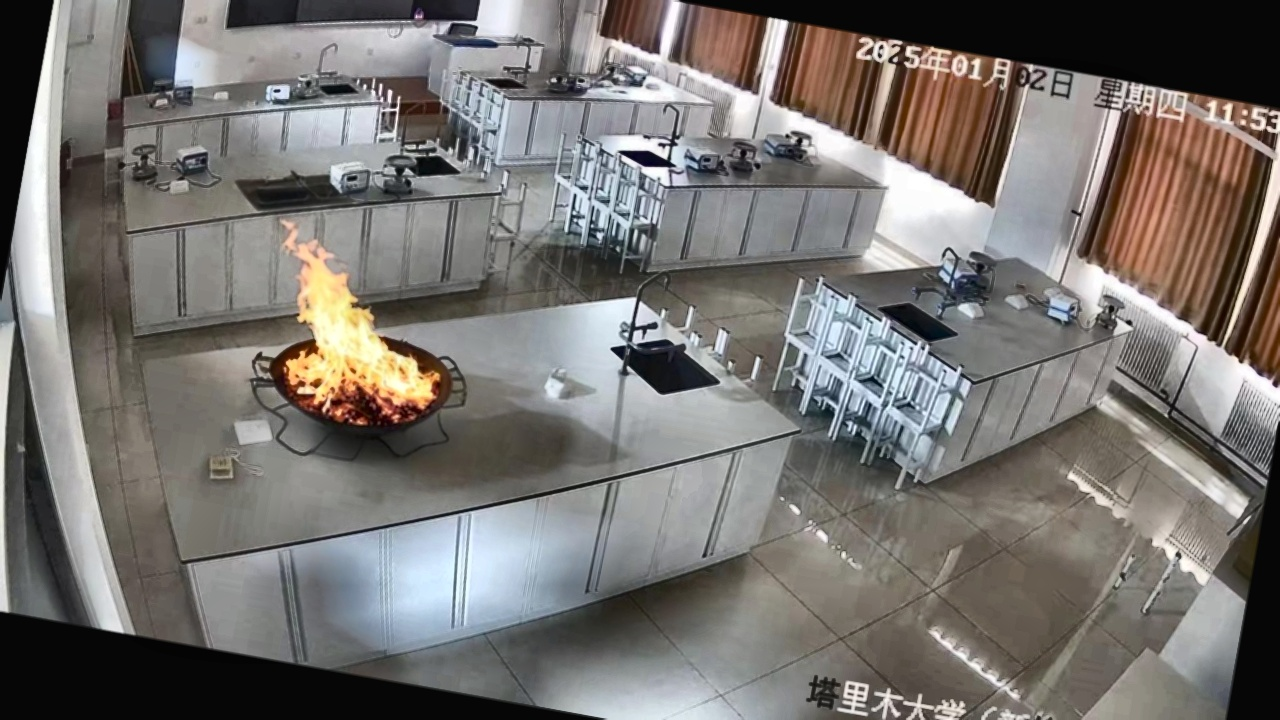fire: (224, 193, 497, 477)
